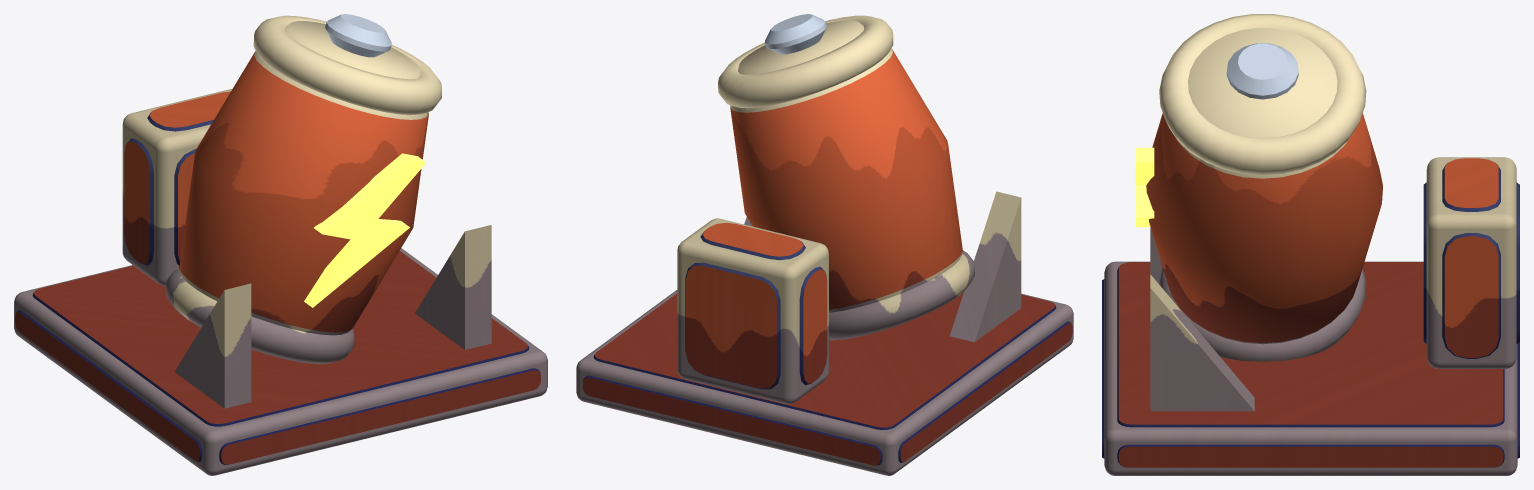
The model's file is R4X_Battery.glb.
The picture shows the model from 3 angles, left to right: view 1: azimuth 30°, elevation 25°; view 2: azimuth 150°, elevation 25°; view 3: azimuth 270°, elevation 25°; orthographic projection. The views are drawn at different scales.
Parts seen in each view (by area): view 1: R4X_Battery_Body; view 2: R4X_Battery_Body; view 3: R4X_Battery_Body.
Part boxes in pixels (<box>): R4X_Battery_Body: <box>14,14,547,475</box>; R4X_Battery_Body: <box>576,14,1073,475</box>; R4X_Battery_Body: <box>1102,14,1519,475</box>.
Size of the model in its own units: 0.52 by 0.5093 by 0.52.
5 materials, 4 textured.
